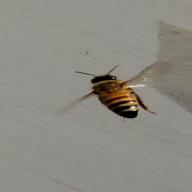Bee: (68, 65, 182, 119)
